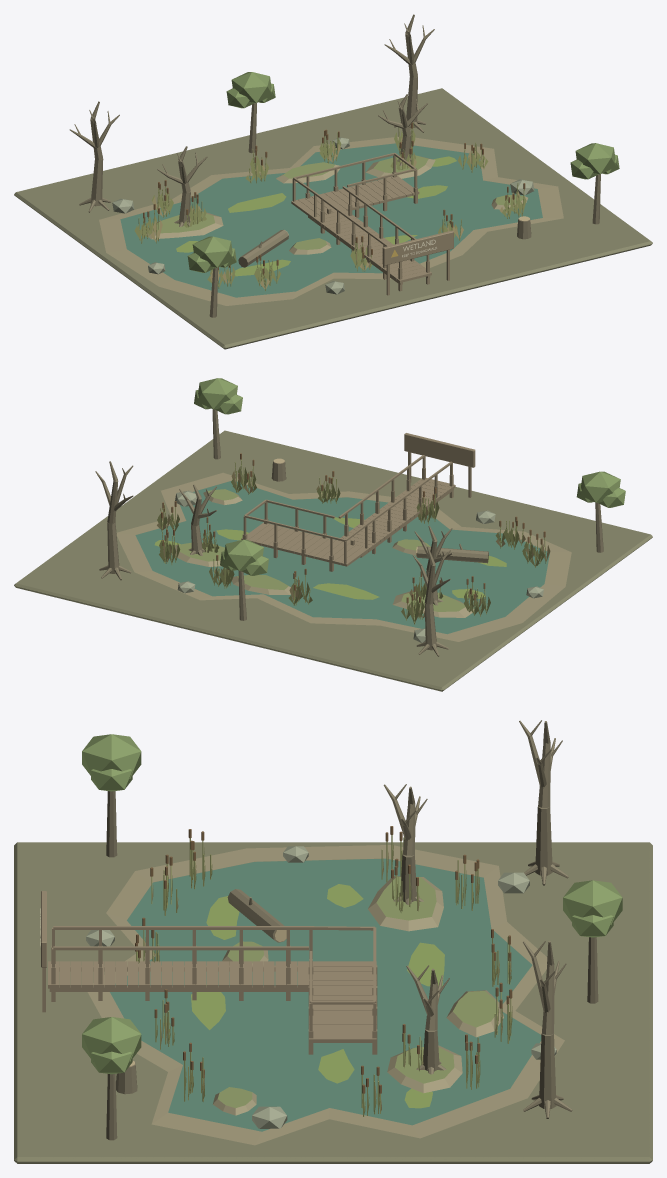
Rendered from Swamp.fbx.
3 renders of one model, top to bottom at view 1: azimuth 30°, elevation 25°; view 2: azimuth 150°, elevation 25°; view 3: azimuth 270°, elevation 25°, orthographic. The views are drawn at different scales.
Visible parts, largest first — view 1: Swamp Terrain Base.004, Irregular Marsh Water.004, Wet Mud Shore.004, Marsh Warning Board.004, Sparse Marsh Canopy.044, Sparse Marsh Canopy.041, Sparse Marsh Canopy.038, Fallen Log.004, Mossy Island Top.024, Floating Algae Patch.028, Raised Mud Island.024; view 2: Swamp Terrain Base.004, Irregular Marsh Water.004, Wet Mud Shore.004, Marsh Warning Board.004, Sparse Marsh Canopy.038, Sparse Marsh Canopy.041, Sparse Marsh Canopy.044, Fallen Log.004, Floating Algae Patch.028, Mossy Island Top.024, Dead Tree Trunk Lower.018, Mossy Island Top.021 (+2 smaller); view 3: Swamp Terrain Base.004, Irregular Marsh Water.004, Wet Mud Shore.004, Sparse Marsh Canopy.044, Sparse Marsh Canopy.038, Sparse Marsh Canopy.041, Mossy Island Top.024, Raised Mud Island.024, Boardwalk Handrail.009, Mossy Island Top.021, Mossy Island Top.023, Floating Algae Patch.028 (+17 smaller).
Part boxes in pixels (<box>): Swamp Terrain Base.004: <box>14,88,652,349</box>; Irregular Marsh Water.004: <box>120,143,542,297</box>; Wet Mud Shore.004: <box>99,136,563,305</box>; Marsh Warning Board.004: <box>382,230,453,265</box>; Sparse Marsh Canopy.044: <box>192,236,233,267</box>; Sparse Marsh Canopy.041: <box>575,143,616,174</box>; Sparse Marsh Canopy.038: <box>231,72,272,103</box>; Fallen Log.004: <box>238,229,288,267</box>; Mossy Island Top.024: <box>156,212,214,233</box>; Floating Algae Patch.028: <box>228,193,286,212</box>; Raised Mud Island.024: <box>146,211,223,239</box>; Swamp Terrain Base.004: <box>14,430,652,691</box>; Irregular Marsh Water.004: <box>135,481,549,634</box>; Wet Mud Shore.004: <box>116,472,571,641</box>; Marsh Warning Board.004: <box>404,433,475,467</box>; Sparse Marsh Canopy.038: <box>223,539,263,570</box>; Sparse Marsh Canopy.041: <box>197,378,237,409</box>; Sparse Marsh Canopy.044: <box>580,471,620,502</box>; Fallen Log.004: <box>417,546,488,563</box>; Floating Algae Patch.028: <box>313,583,379,599</box>; Mossy Island Top.024: <box>401,591,465,611</box>; Dead Tree Trunk Lower.018: <box>107,522,119,573</box>; Mossy Island Top.021: <box>237,575,288,589</box>; Swamp Terrain Base.004: <box>14,842,652,1163</box>; Irregular Marsh Water.004: <box>110,858,541,1131</box>; Wet Mud Shore.004: <box>87,845,564,1145</box>; Sparse Marsh Canopy.044: <box>82,734,141,779</box>; Sparse Marsh Canopy.038: <box>563,880,622,925</box>; Sparse Marsh Canopy.041: <box>82,1017,141,1061</box>; Mossy Island Top.024: <box>376,877,436,920</box>; Raised Mud Island.024: <box>368,876,443,931</box>; Boardwalk Handrail.009: <box>53,946,308,950</box>; Mossy Island Top.021: <box>453,991,497,1027</box>; Mossy Island Top.023: <box>395,1047,454,1083</box>; Floating Algae Patch.028: <box>407,942,444,986</box>.
Size of the model in its own units: 2010 by 521 by 1700.
